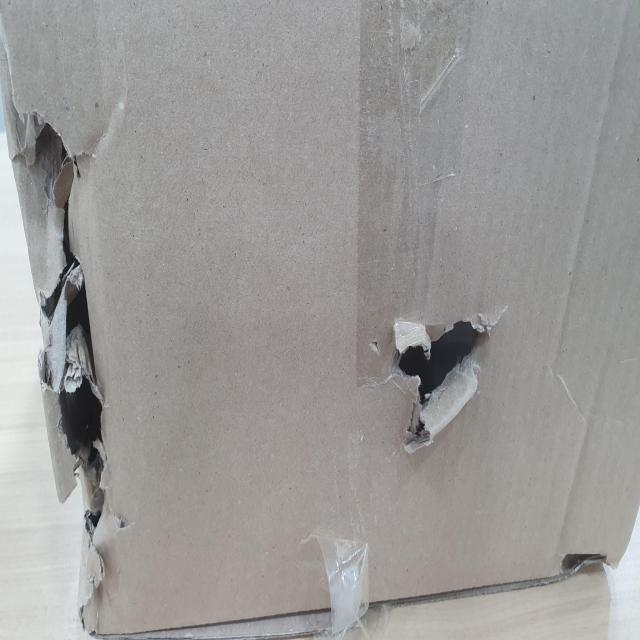damaged: (19, 111, 128, 515), (384, 316, 498, 445)
